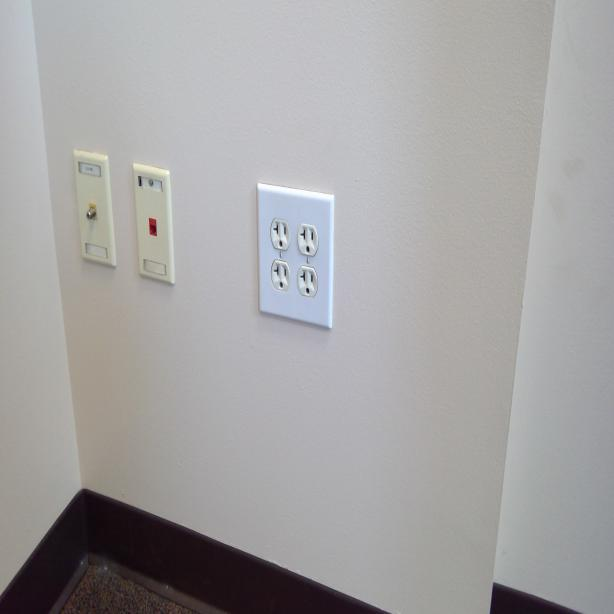typeb: (270, 259, 290, 291), (272, 218, 290, 250), (300, 224, 317, 257), (299, 270, 316, 299)
